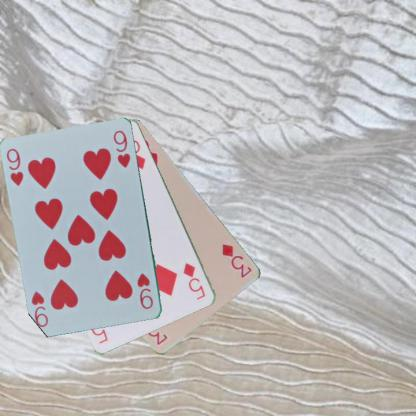3d: (220, 241, 253, 279)
5d: (180, 260, 207, 301)
9h: (4, 146, 25, 187), (134, 270, 154, 311)
